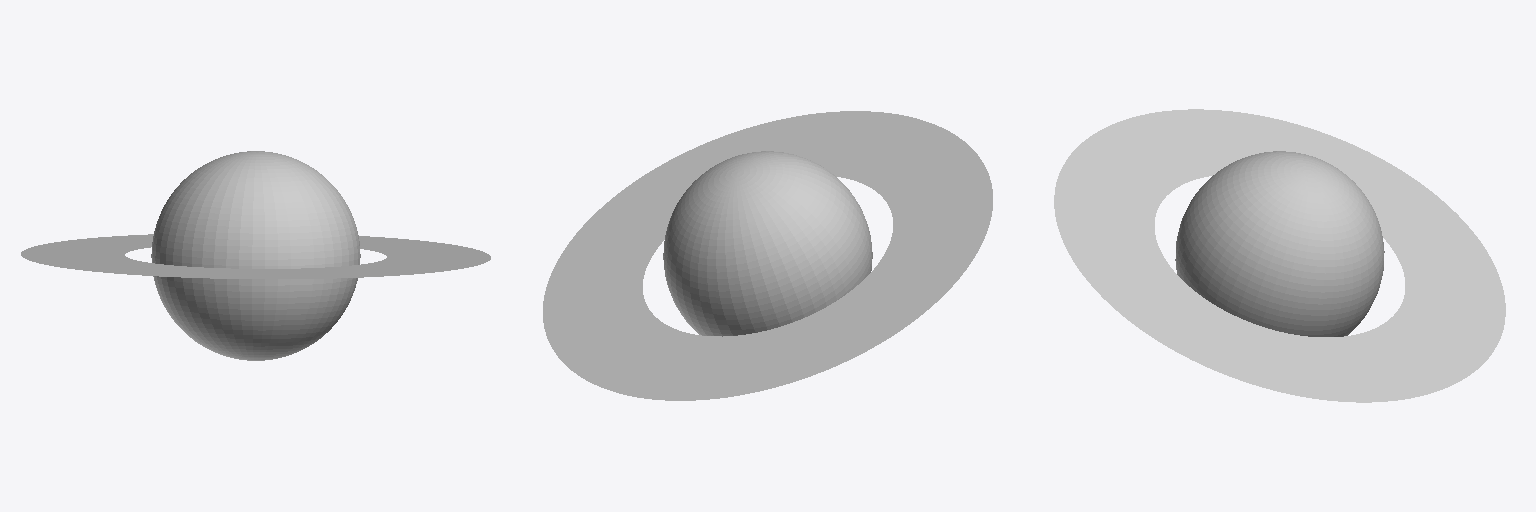
Rendered from saturno.obj.
3 renders of one model, left to right at view 1: azimuth 30°, elevation 25°; view 2: azimuth 150°, elevation 25°; view 3: azimuth 270°, elevation 25°, orthographic.
Visible parts, largest first — view 1: Saturn_Sphere.006; view 2: Saturn_Sphere.006; view 3: Saturn_Sphere.006.
Boxes of the visible parts, x1,y1,x2,y2 form: Saturn_Sphere.006: [21, 151, 490, 360]; Saturn_Sphere.006: [543, 111, 992, 400]; Saturn_Sphere.006: [1054, 109, 1505, 402].
Size of the model in its own units: 4.42 by 2 by 4.3.